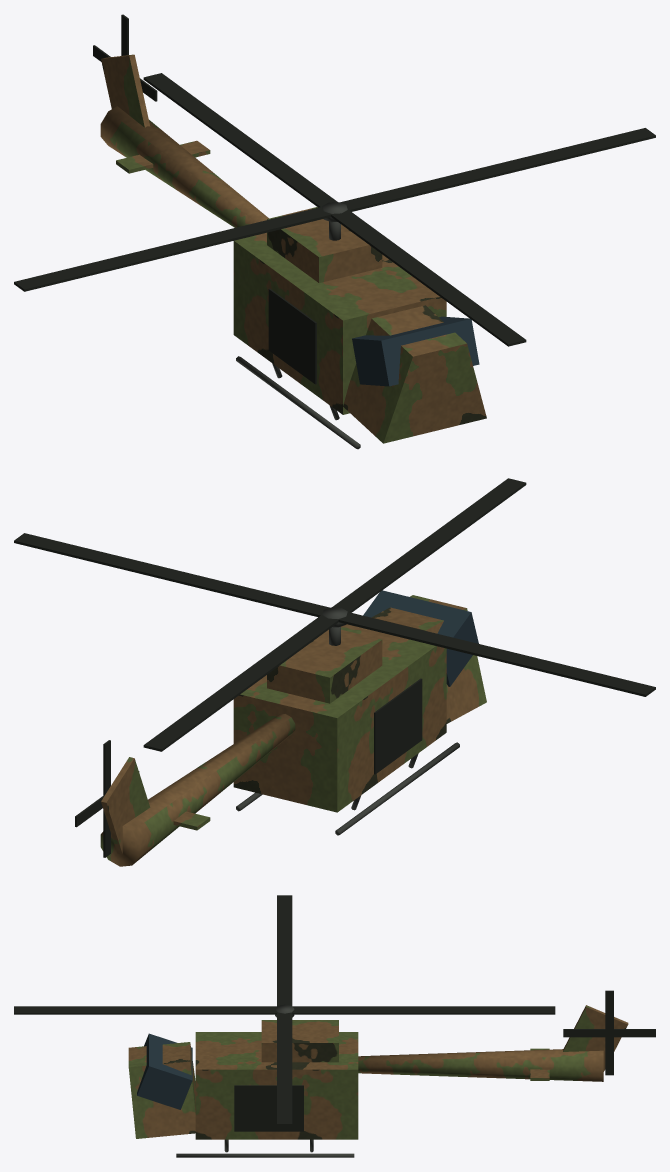
File: helicopter.fbx
3 views of the same model, one above another, from view 1: azimuth 30°, elevation 25°; view 2: azimuth 150°, elevation 25°; view 3: azimuth 270°, elevation 25° (orthographic). The views are drawn at different scales.
Visible parts, largest first — view 1: Body, Rotor, TailRotor; view 2: Body, Rotor, TailRotor; view 3: Body, Rotor, TailRotor.
Boxes of the visible parts, box(x1,y1,x2,y2) form: Body: box(100, 54, 486, 449); Rotor: box(14, 73, 655, 346); TailRotor: box(93, 14, 157, 101); Body: box(100, 590, 486, 866); Rotor: box(14, 478, 655, 751); TailRotor: box(75, 740, 139, 857); Body: box(128, 1005, 628, 1157); Rotor: box(14, 895, 555, 1125); TailRotor: box(563, 990, 655, 1075).
Bounding box in the file's own units: 14 × 4.34 × 16.6.
